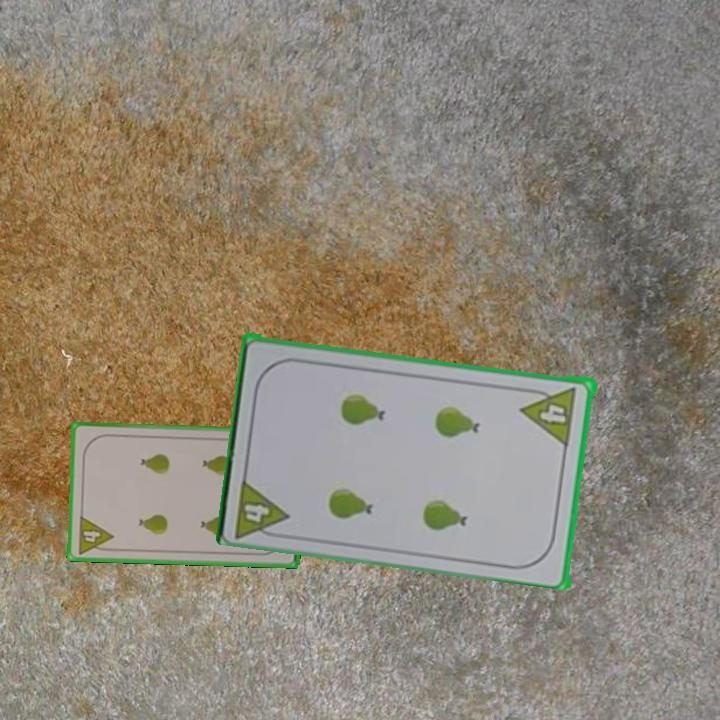4p: (231, 472, 293, 542), (519, 383, 580, 448), (74, 512, 116, 557)
